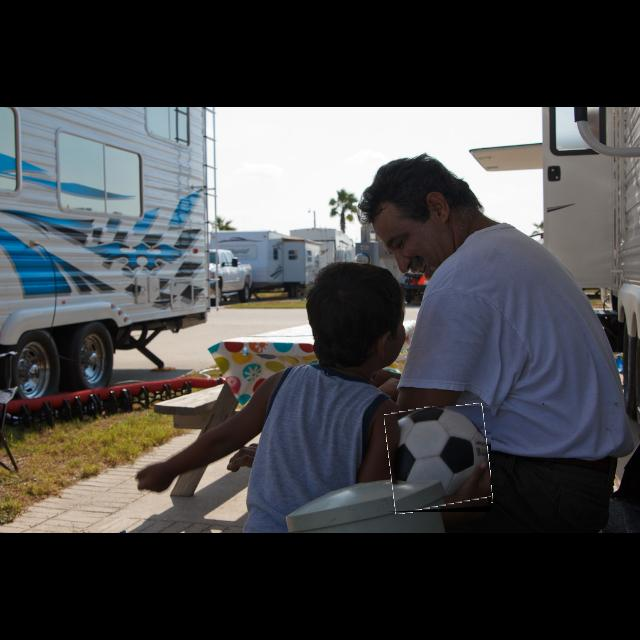Football: (387, 406, 491, 512)
